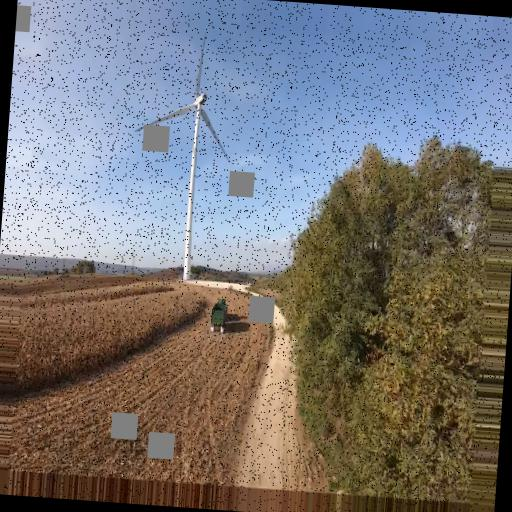wind turbine: (131, 32, 232, 278)
